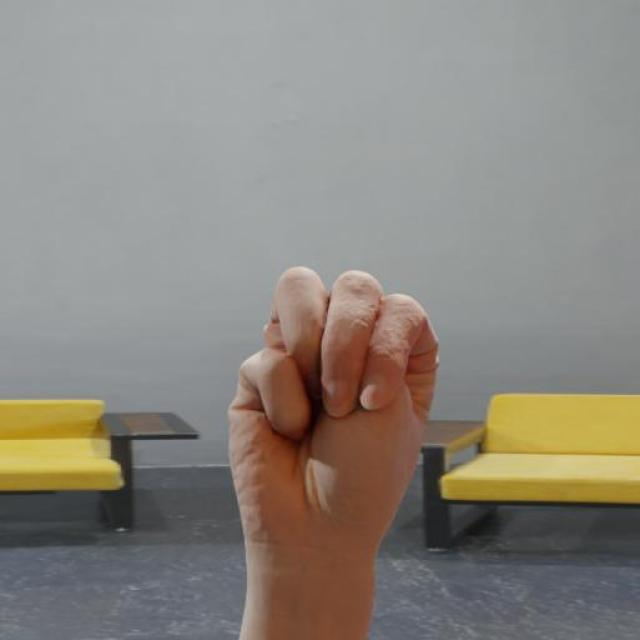M: (229, 263, 443, 546)
